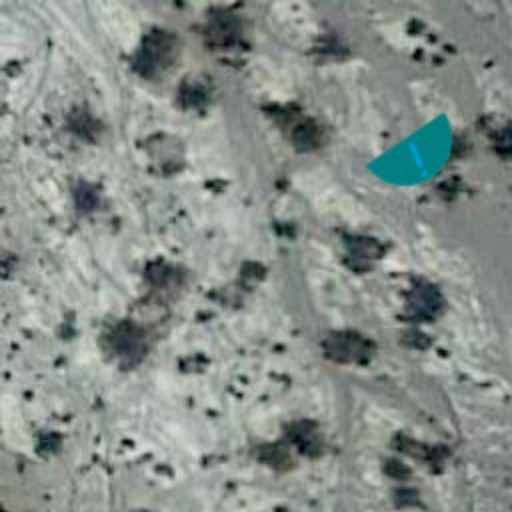semicircle: (350, 90, 486, 226)
